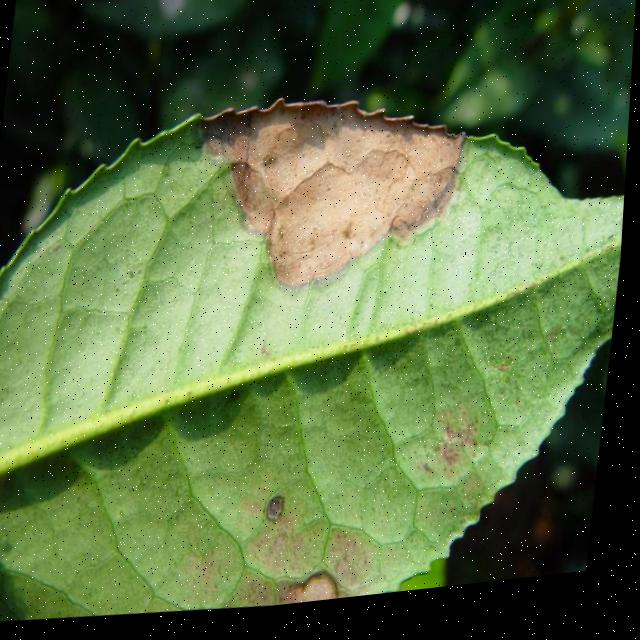Tea cloud leaf blight: (163, 59, 481, 298)
